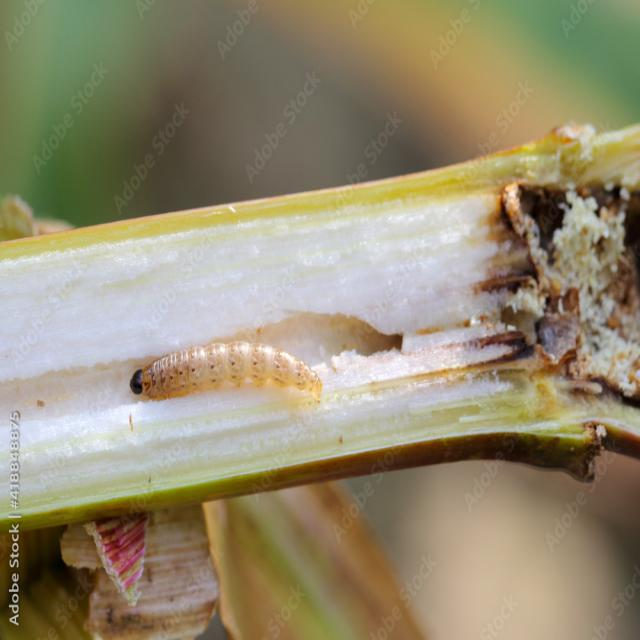cornborer-Larva-: (120, 333, 330, 422)
